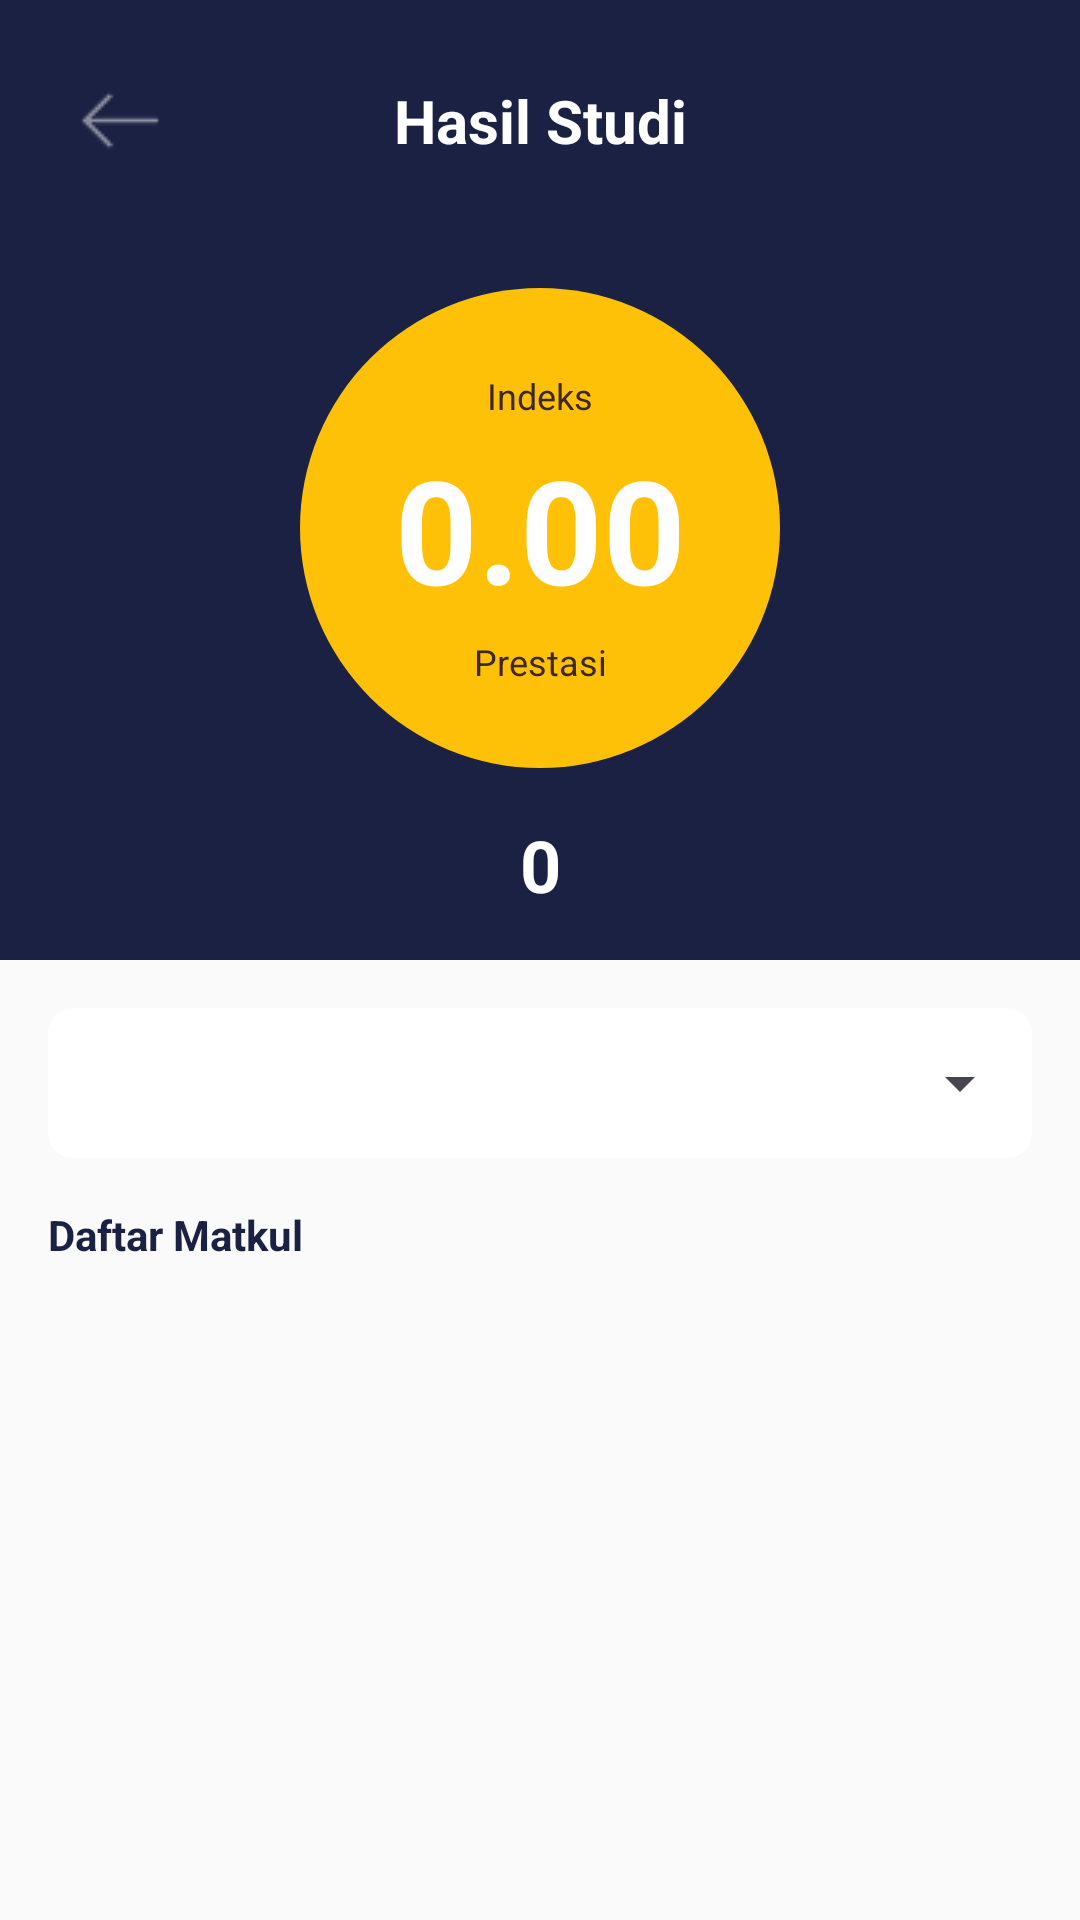

Point at icon controls on the screen. Image size 1080px×1920px, points as (x,y).
arrow back: (120,120)
